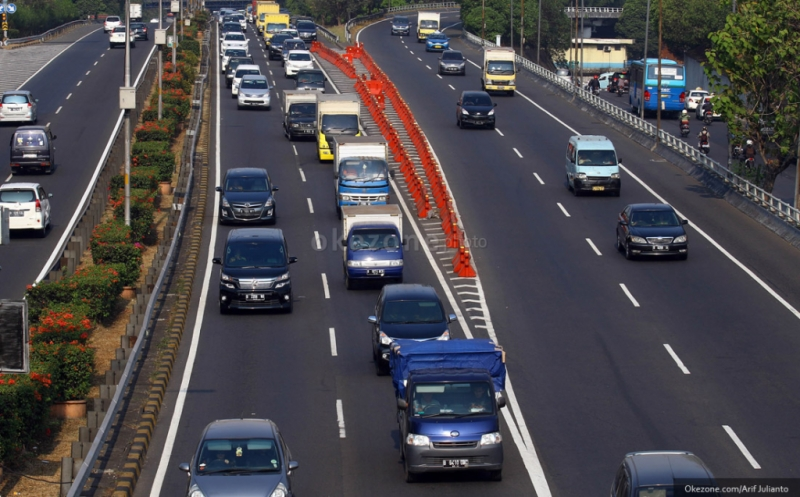car: (390, 341, 506, 480), (188, 416, 290, 497), (373, 281, 452, 365), (222, 224, 293, 314), (340, 206, 402, 288), (335, 131, 386, 218), (619, 202, 690, 260), (567, 132, 620, 199), (627, 58, 685, 119), (218, 168, 276, 225), (318, 91, 359, 162), (1, 187, 51, 233), (10, 124, 54, 175), (282, 89, 323, 139), (483, 47, 517, 97), (459, 92, 495, 131), (232, 63, 263, 102), (240, 75, 270, 111), (1, 91, 34, 122), (263, 13, 289, 49), (296, 67, 325, 98), (417, 10, 443, 44), (226, 57, 256, 86), (286, 49, 314, 78), (698, 94, 728, 121), (258, 1, 280, 36), (440, 49, 465, 77), (222, 31, 250, 56), (110, 26, 134, 50), (686, 88, 710, 112), (425, 29, 449, 52), (390, 14, 411, 38), (296, 18, 317, 42), (129, 22, 148, 42), (105, 15, 122, 31)
motorbike: (742, 139, 757, 171), (698, 126, 711, 154), (702, 97, 713, 124), (680, 109, 690, 138), (592, 75, 600, 99), (617, 72, 625, 96)
